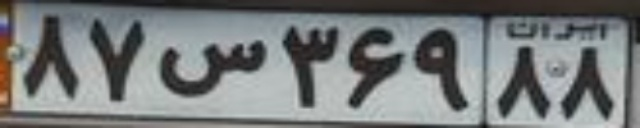3: (279, 25, 338, 109)
6: (345, 28, 407, 106)
7: (83, 17, 152, 102)
8: (22, 14, 79, 101), (561, 45, 619, 120), (495, 42, 550, 119)
9: (412, 28, 469, 110)
sin: (157, 37, 270, 98)
